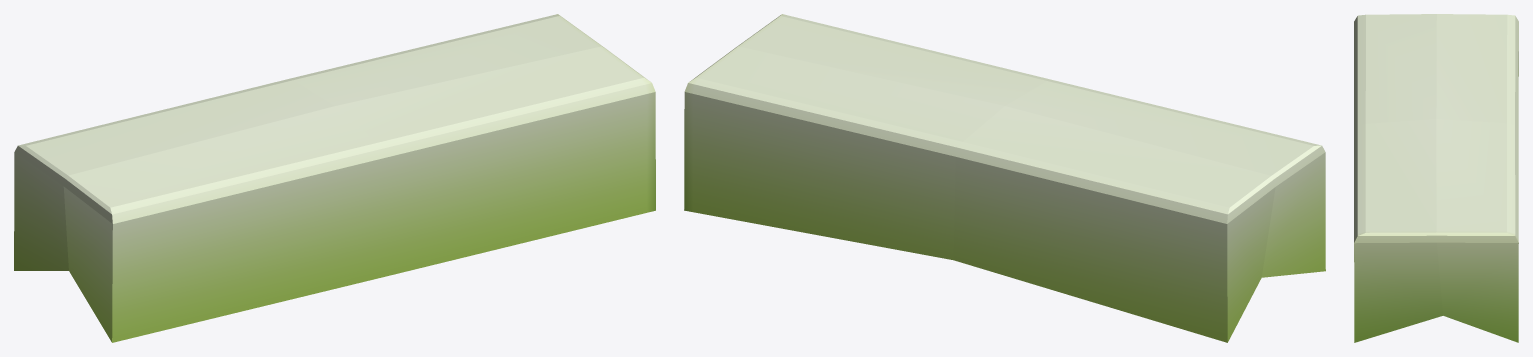
File: SM_Tablecloth_Green.fbx
3 views of the same model, side by side, from view 1: azimuth 30°, elevation 25°; view 2: azimuth 150°, elevation 25°; view 3: azimuth 270°, elevation 25° (orthographic). The views are drawn at different scales.
Parts seen in each view (by area): view 1: Tablecloth_Green_mash; view 2: Tablecloth_Green_mash; view 3: Tablecloth_Green_mash.
Part boxes in pixels (left/top/right/bottom): Tablecloth_Green_mash: left=14, top=14, right=655, bottom=342; Tablecloth_Green_mash: left=684, top=14, right=1325, bottom=342; Tablecloth_Green_mash: left=1354, top=14, right=1518, bottom=342.
Size of the model in its own units: 2.03 by 0.481 by 0.6358.
